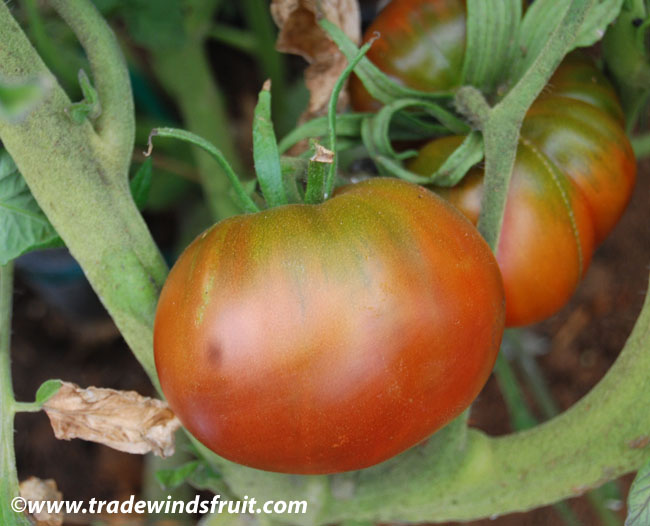tomato: (156, 166, 518, 478)
